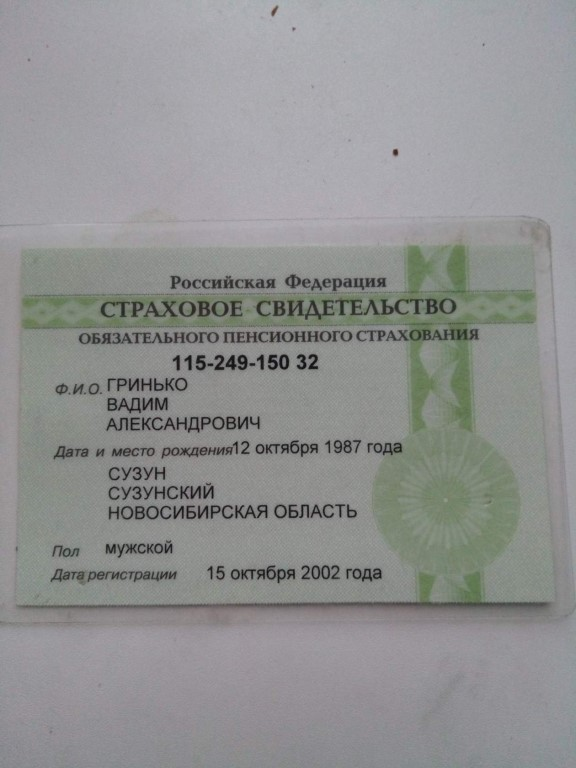text: (101, 461, 365, 521), (206, 560, 386, 585), (169, 347, 323, 375), (227, 435, 406, 458), (103, 412, 267, 433), (97, 537, 179, 559), (102, 394, 183, 415), (103, 376, 191, 393)
